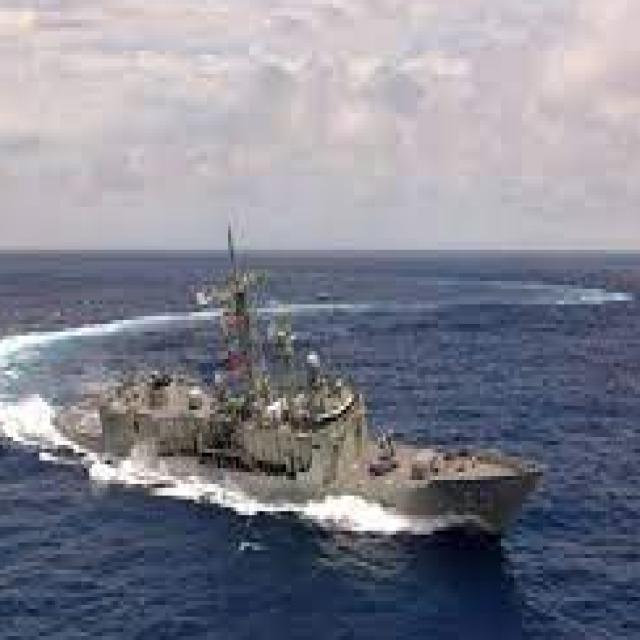navalvessels: (59, 229, 558, 564)
